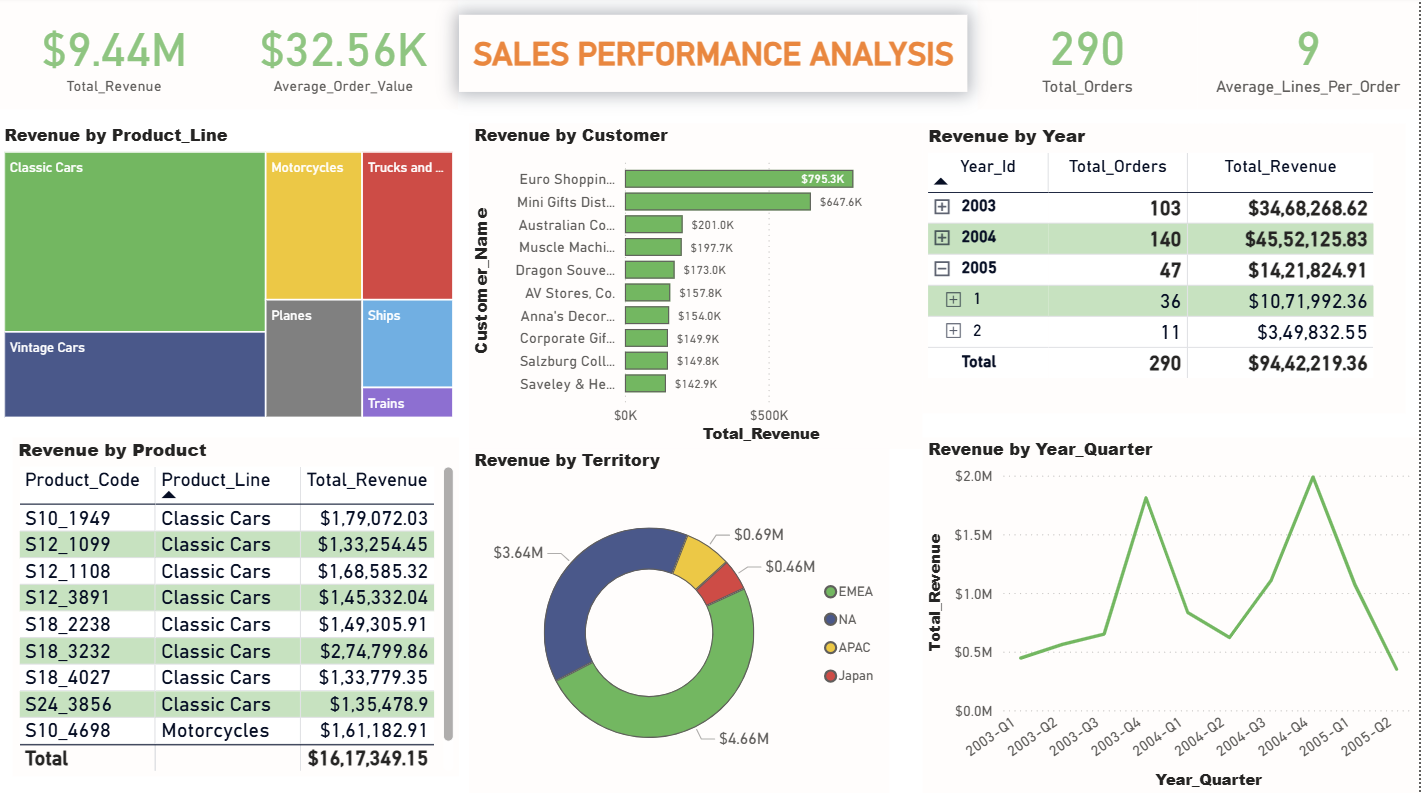

Layout of this report page (visuals, bound fields, positions):
{"tool":"powerbi","page":{"name":"Page 1","canvas":[1280,720],"ordinal":0},"visuals":[{"type":"card","fields":{"Values":["_Measure.Average_Lines_Per_Order"]},"box":[1081,0,199.3,102.7],"z":0},{"type":"card","fields":{"Values":["_Measure.Total_Revenue"]},"box":[0,0,207.9,102.7],"z":1000},{"type":"card","fields":{"Values":["_Measure.Total_Orders"]},"box":[882.9,0,198.1,102.7],"z":2000},{"type":"card","fields":{"Values":["_Measure.Average_Order_Value"]},"box":[207.9,0,206.7,102.7],"z":3000},{"type":"clusteredBarChart","title":"Revenue by Customer","fields":{"Y":["_Measure.Total_Revenue"],"Category":["Sales.Customer_Name"]},"box":[424.3,114.9,408.4,293.5],"z":5000},{"type":"pivotTable","title":"Revenue by Year","fields":{"Rows":["Sales.Year_Id","Sales.Quarter_Id","Sales.Month_Id"],"Values":["_Measure.Total_Orders","_Measure.Total_Revenue"]},"box":[832.7,114.9,435.3,261.7],"z":6000},{"type":"lineChart","title":"Revenue by Year_Quarter","fields":{"Category":["Sales.Year_Quarter"],"Y":["_Measure.Total_Revenue"]},"box":[832.7,397.4,447.6,322.8],"z":7000},{"type":"treemap","title":"Revenue by Product_Line","fields":{"Group":["Sales.Product_Line"],"Values":["_Measure.Total_Revenue"]},"box":[0,114.9,414.5,270.2],"z":8000},{"type":"tableEx","title":"Revenue by Product","fields":{"Values":["Sales.Product_Code","Sales.Product_Line","_Measure.Total_Revenue"]},"box":[12.2,397.4,402.3,305.7],"z":9000},{"type":"donutChart","title":"Revenue by Territory","fields":{"Category":["Sales.Territory"],"Y":["_Measure.Total_Revenue"]},"box":[424.3,408.4,379.1,311.8],"z":10000},{"type":"textbox","box":[414.8,16.9,458.7,69.9],"z":11000}]}

Visuals, with their boxes in screenshot pixels (x1, y1, x2, y2), scaled from the page's 1280x720 canvas onto the 1421x793 screenshot:
card - _Measure.Average_Lines_Per_Order: (left=1200, top=0, right=1420, bottom=113)
card - _Measure.Total_Revenue: (left=0, top=0, right=231, bottom=113)
card - _Measure.Total_Orders: (left=980, top=0, right=1200, bottom=113)
card - _Measure.Average_Order_Value: (left=231, top=0, right=460, bottom=113)
"Revenue by Customer" clusteredBarChart: (left=471, top=127, right=924, bottom=450)
"Revenue by Year" pivotTable: (left=924, top=127, right=1408, bottom=415)
"Revenue by Year_Quarter" lineChart: (left=924, top=438, right=1420, bottom=792)
"Revenue by Product_Line" treemap: (left=0, top=127, right=460, bottom=424)
"Revenue by Product" tableEx: (left=14, top=438, right=460, bottom=774)
"Revenue by Territory" donutChart: (left=471, top=450, right=892, bottom=792)
textbox: (left=460, top=19, right=970, bottom=96)
